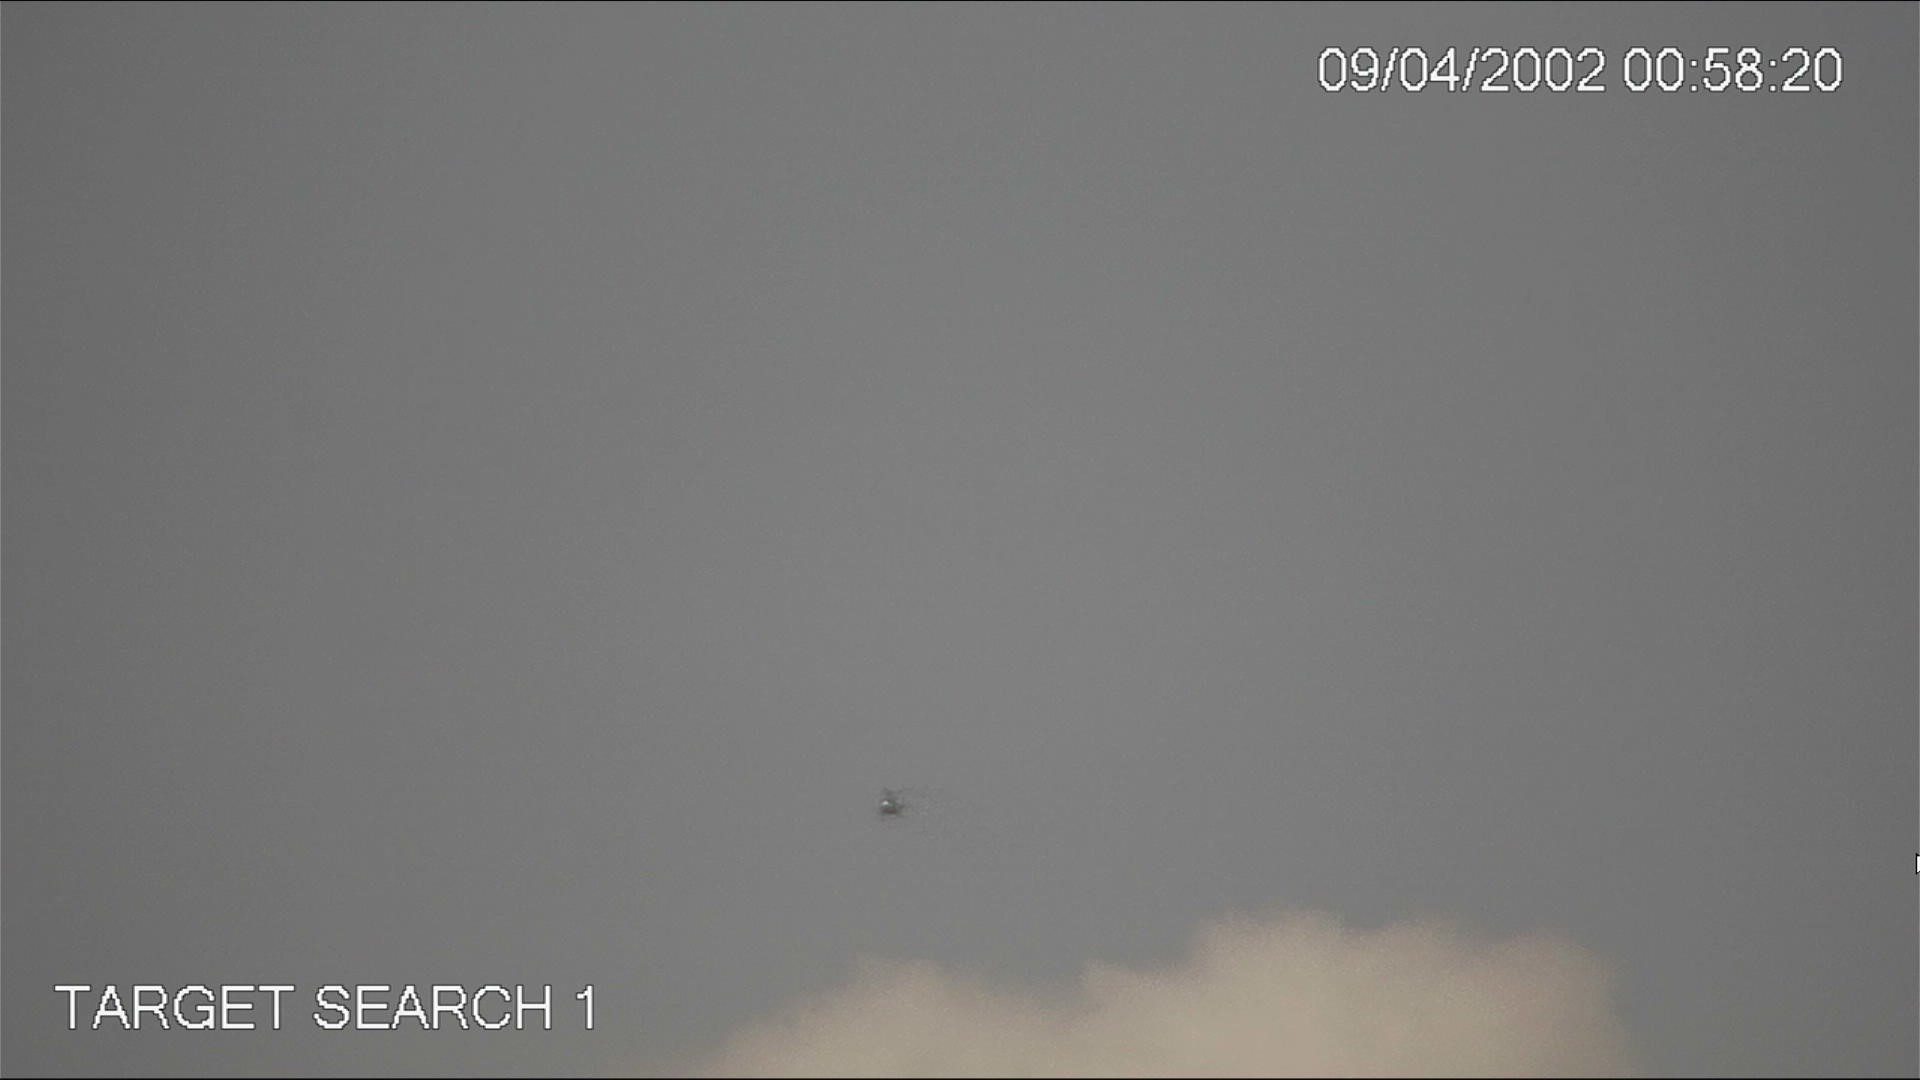SU_30: (874, 793, 905, 815)
